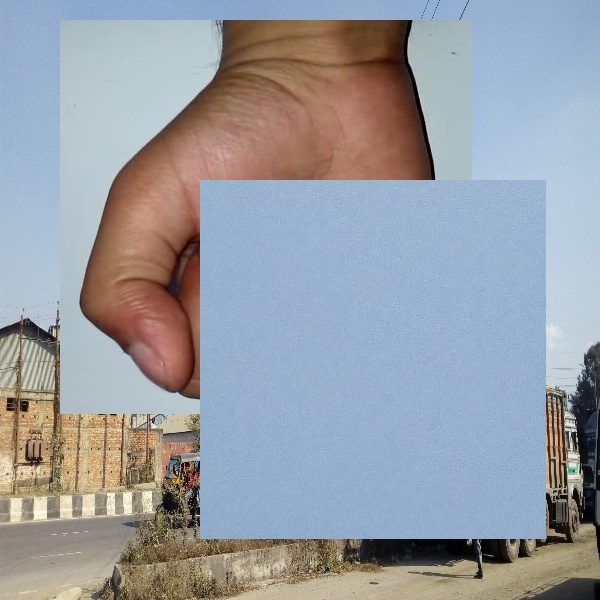A: (200, 180, 546, 539)
